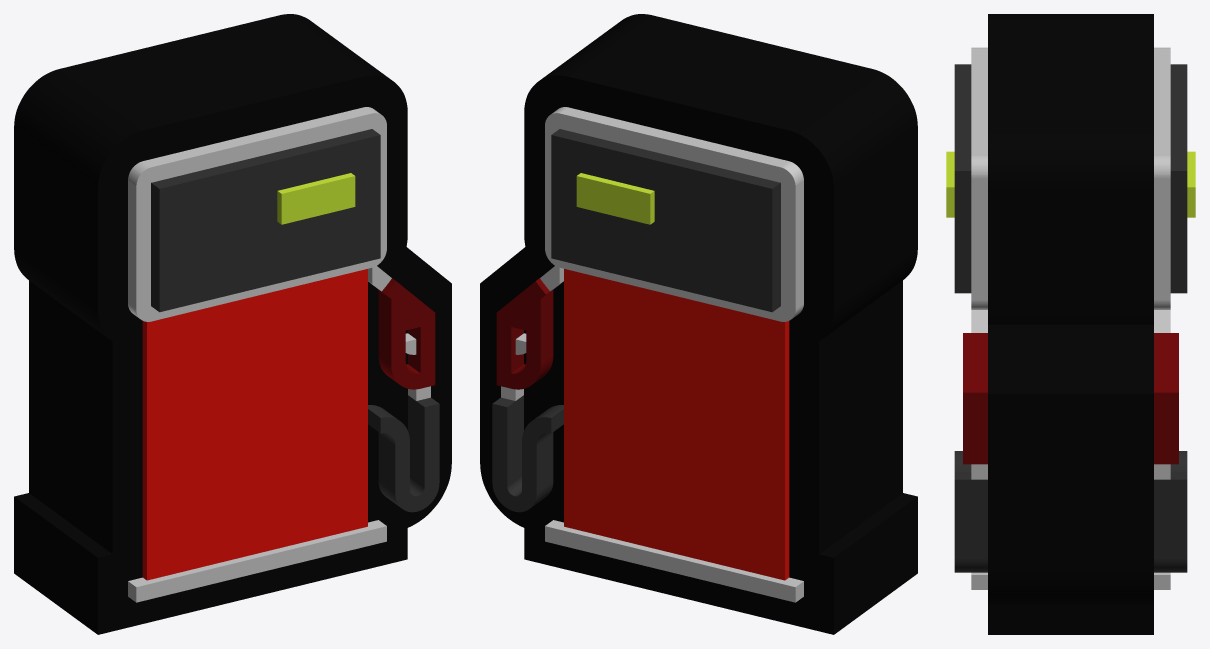
The picture shows the model from 3 angles, left to right: view 1: azimuth 30°, elevation 25°; view 2: azimuth 150°, elevation 25°; view 3: azimuth 270°, elevation 25°; orthographic projection.
Parts seen in each view (by area): view 1: U+26FD_layer00_obj00, U+26FD_layer01_obj00, U+26FD_layer04_obj00, U+26FD_layer02_obj00, U+26FD_layer03_obj00, U+26FD_layer05_obj00; view 2: U+26FD_layer00_obj00, U+26FD_layer01_obj00, U+26FD_layer04_obj00, U+26FD_layer02_obj00, U+26FD_layer03_obj00, U+26FD_layer05_obj00; view 3: U+26FD_layer00_obj00, U+26FD_layer04_obj00, U+26FD_layer02_obj00, U+26FD_layer03_obj00, U+26FD_layer05_obj00.
Boxes of the visible parts, x1,y1,x2,y2 form: U+26FD_layer00_obj00: (14, 14, 451, 634); U+26FD_layer01_obj00: (142, 269, 367, 580); U+26FD_layer04_obj00: (151, 129, 439, 512); U+26FD_layer02_obj00: (128, 107, 430, 602); U+26FD_layer03_obj00: (377, 278, 435, 389); U+26FD_layer05_obj00: (277, 173, 355, 224); U+26FD_layer00_obj00: (480, 14, 917, 634); U+26FD_layer01_obj00: (564, 269, 789, 580); U+26FD_layer04_obj00: (492, 129, 780, 512); U+26FD_layer02_obj00: (501, 107, 803, 602); U+26FD_layer03_obj00: (496, 278, 554, 389); U+26FD_layer05_obj00: (576, 173, 654, 224); U+26FD_layer00_obj00: (988, 14, 1153, 634); U+26FD_layer04_obj00: (954, 64, 1187, 572); U+26FD_layer02_obj00: (971, 47, 1170, 589); U+26FD_layer03_obj00: (963, 333, 1178, 464); U+26FD_layer05_obj00: (946, 151, 1195, 217).
Size of the model in its own units: 0.4868 by 0.649 by 0.3.
